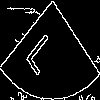L: (25, 24, 63, 77)
